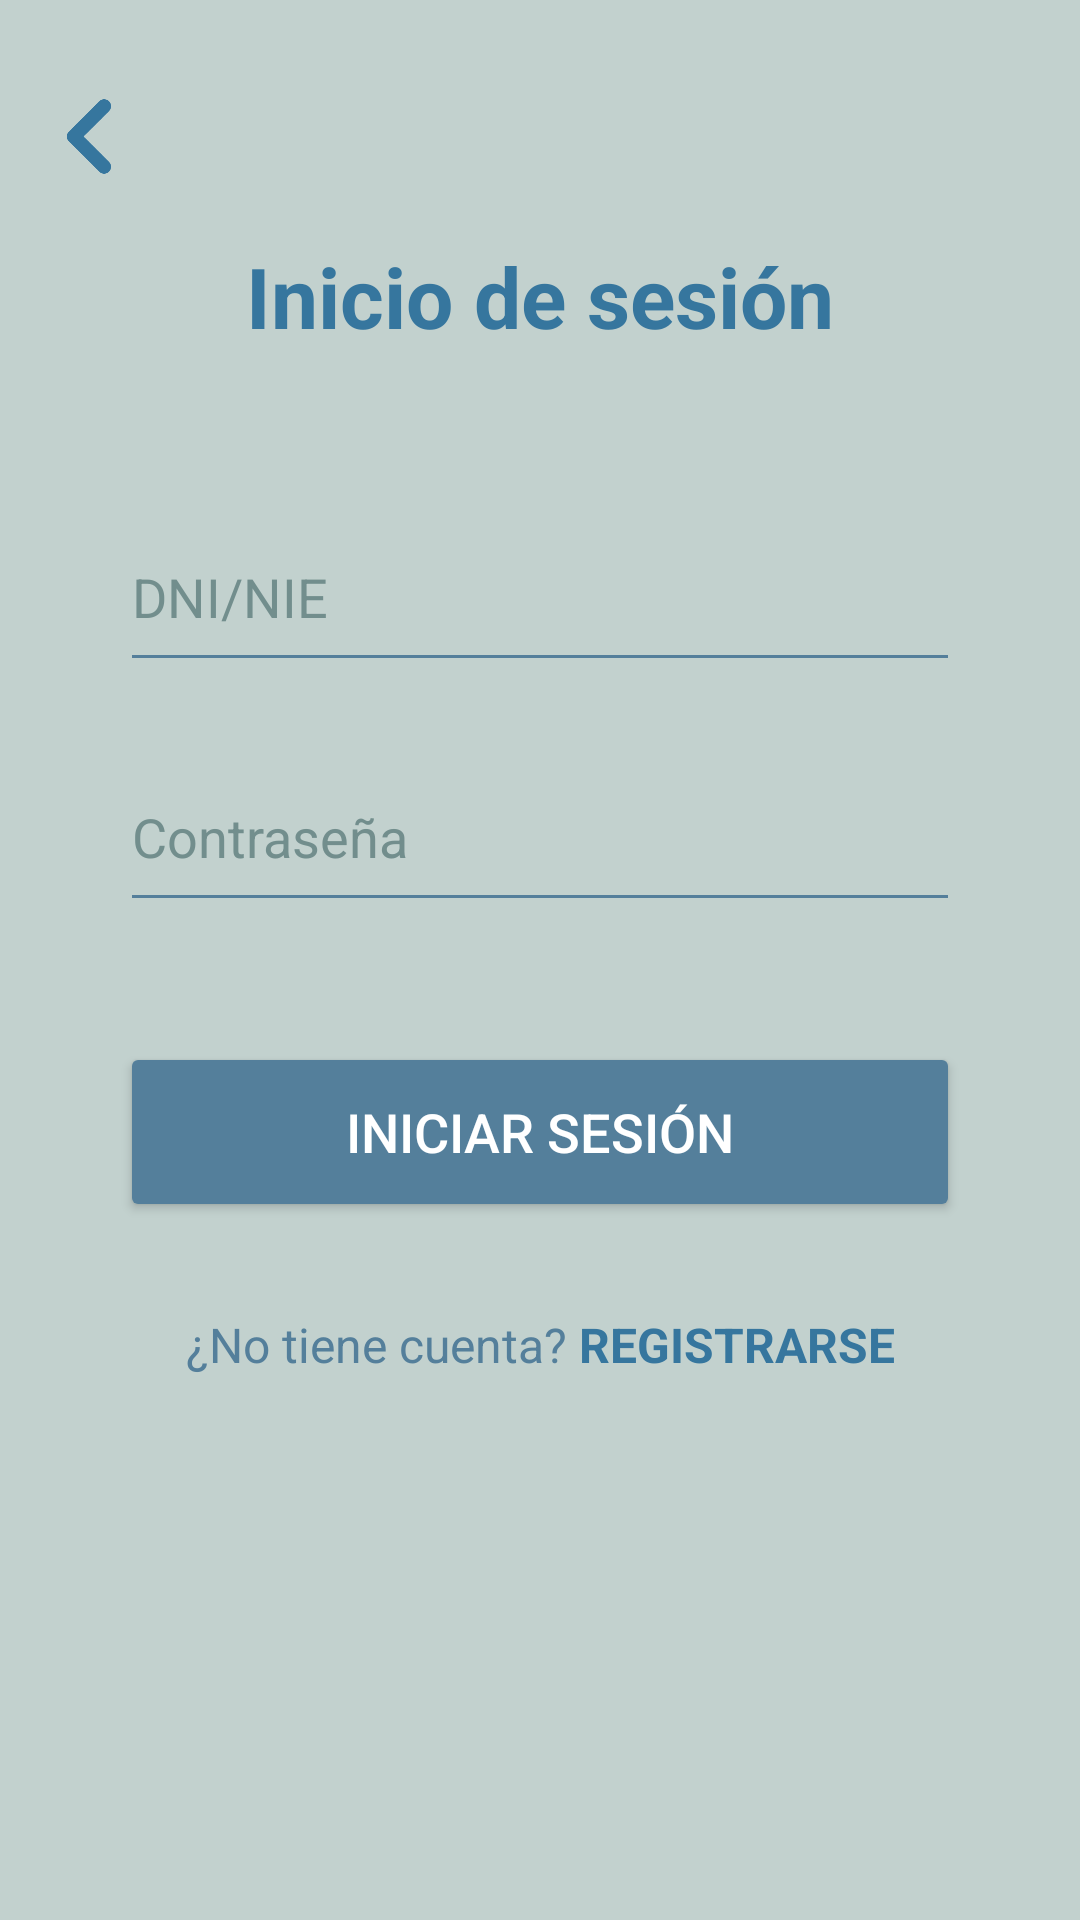

Locate icon controls on the screen. Image size 1080 x 1920, boxes as {"x1": x1, "y1": y1, "x2": x2, "y2": y2}.
Volver atrás: {"x1": 67, "y1": 99, "x2": 111, "y2": 174}
